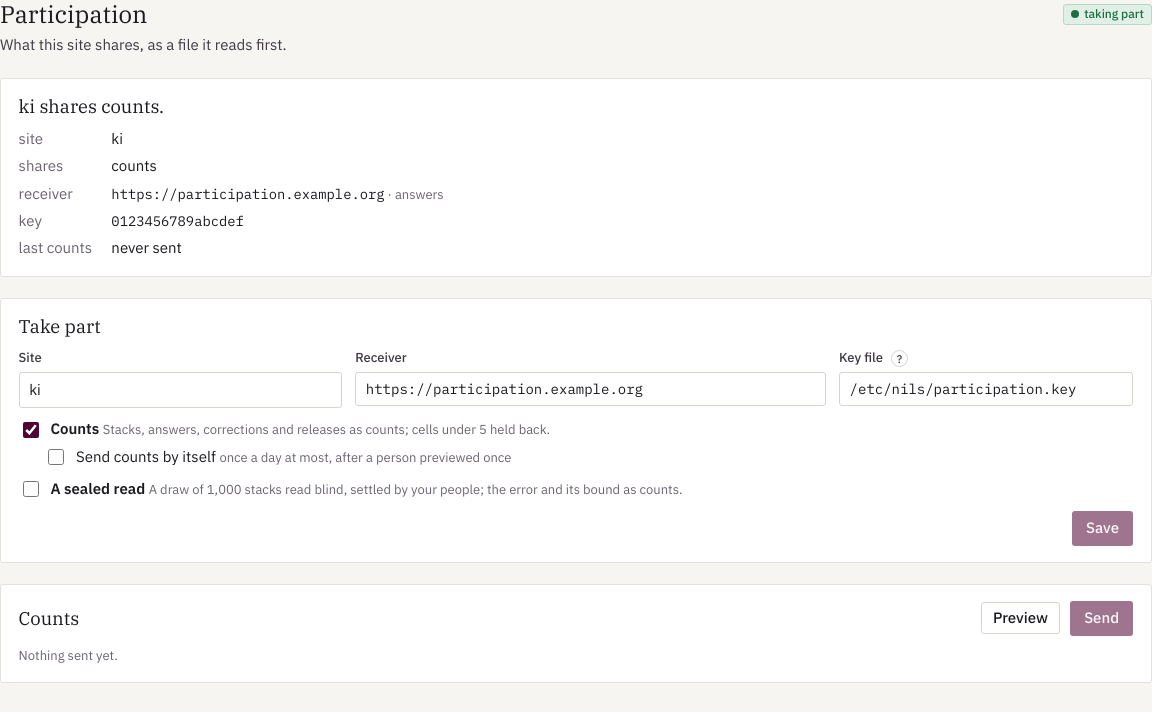
preview and send of the counts › draws the file as tables of its sections with the raw JSON under a fold, and says this is the file
Expected: the button "Send" is disabled, left=1070, top=601, right=1134, bottom=636
What coordinates should you click on to do the following:
click the button "Preview"
I would click on:
 (1020, 618)
Its box is left=981, top=602, right=1060, bottom=634.
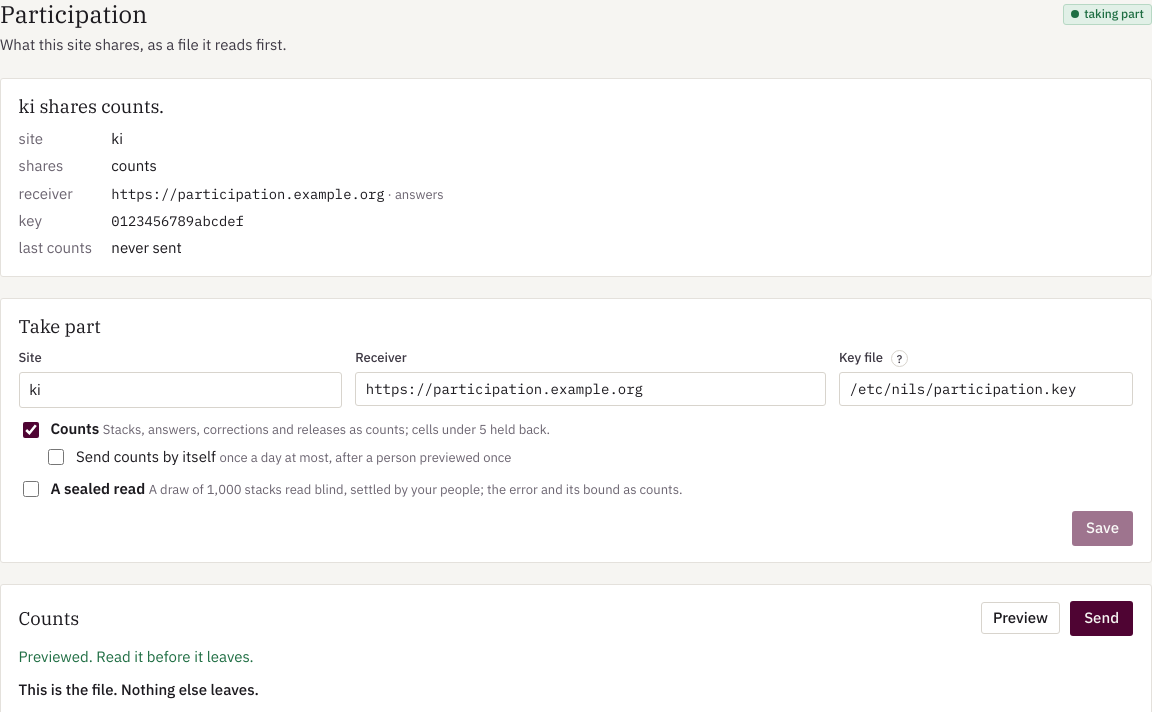
Expected: the text "This is the file. Nothing else leaves." is shown, left=19, top=680, right=259, bottom=699
Expected: the button "Send" is enabled, left=1070, top=601, right=1134, bottom=636
